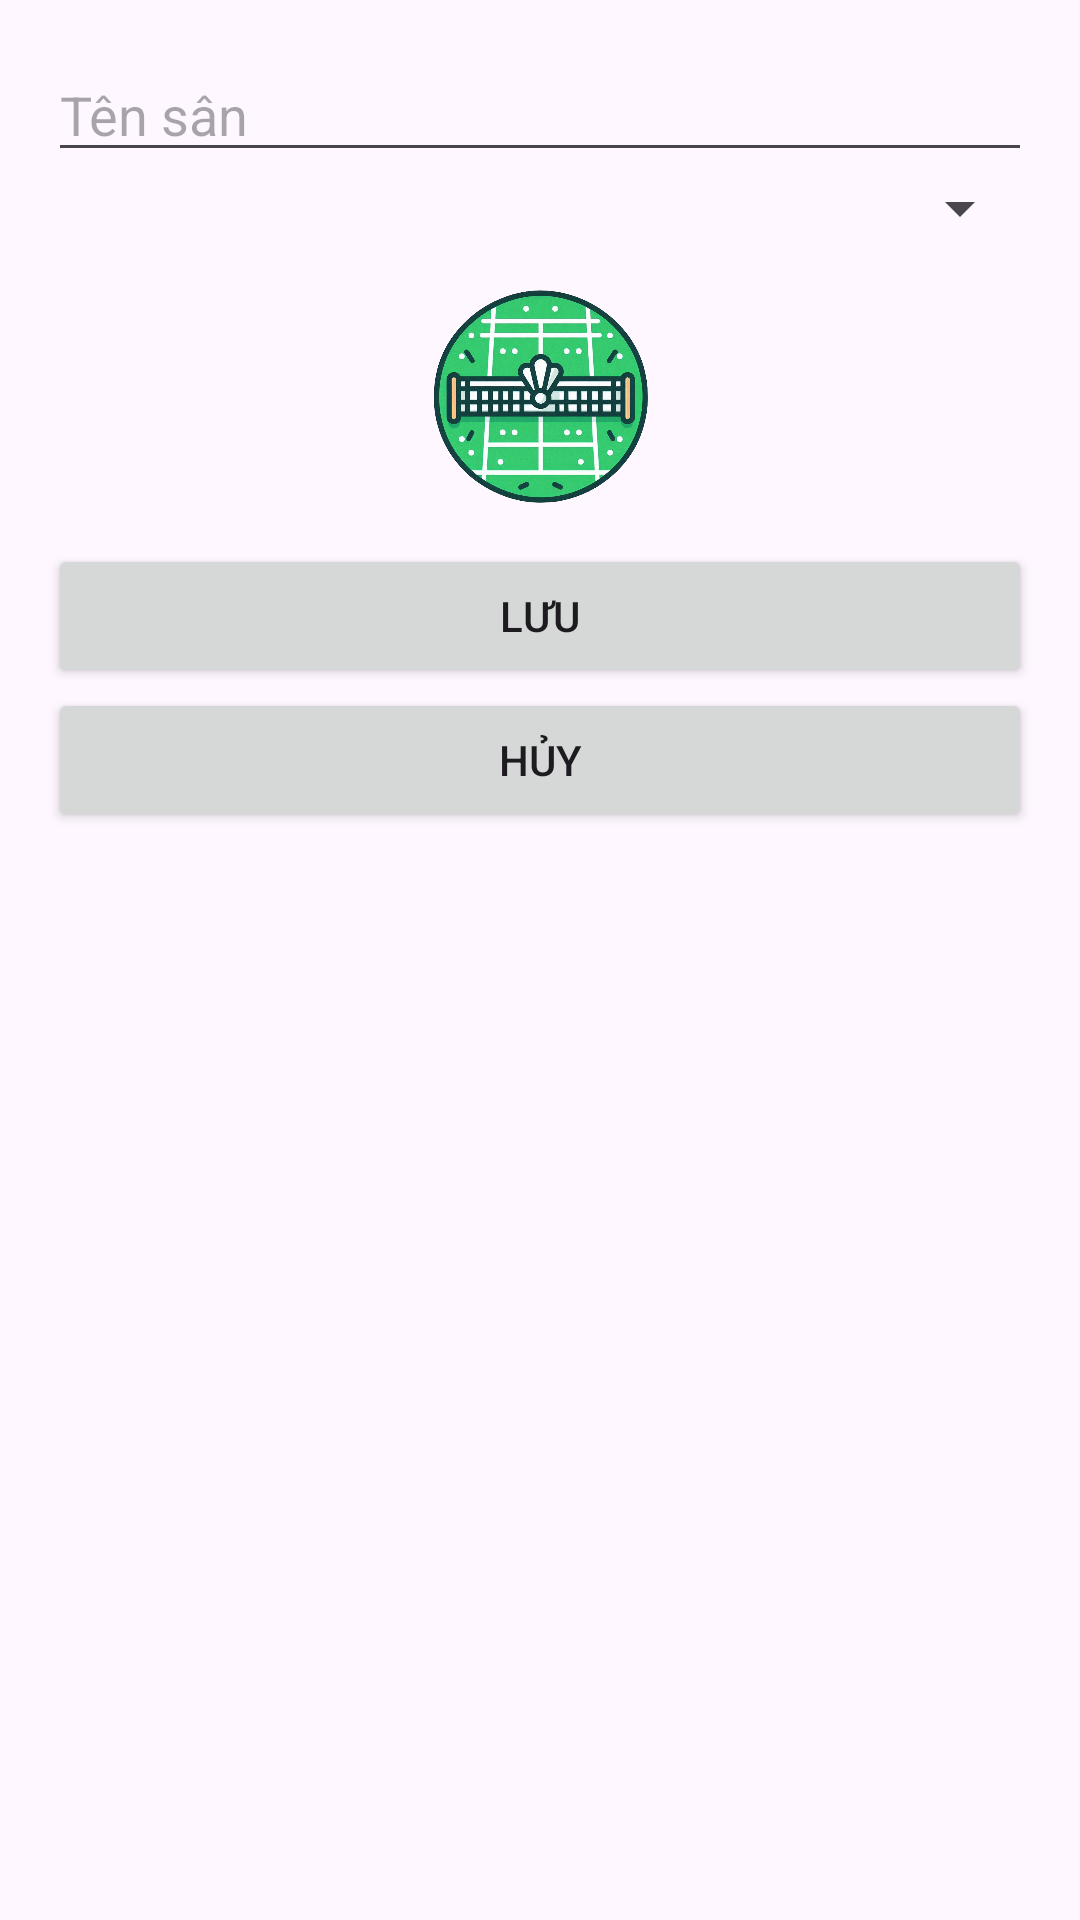

Where to tap for icons on this 1080x1920 app screen, as point (x, y):
Hình ảnh sân: point (541, 396)
